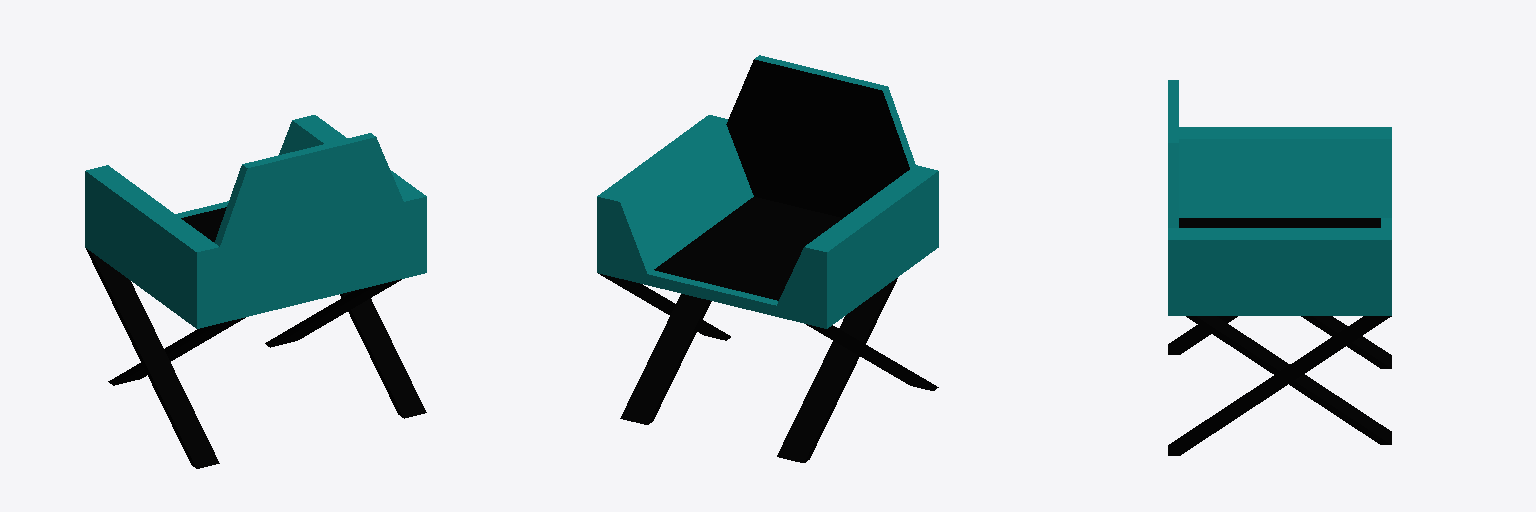
File: campchair.obj
3 views of the same model, side by side, from view 1: azimuth 30°, elevation 25°; view 2: azimuth 150°, elevation 25°; view 3: azimuth 270°, elevation 25° (orthographic).
Visible parts, largest first — view 1: Camp_Chair; view 2: Camp_Chair; view 3: Camp_Chair.
Part boxes in pixels (bbox=[...]): Camp_Chair: bbox=[85, 115, 426, 468]; Camp_Chair: bbox=[597, 55, 938, 462]; Camp_Chair: bbox=[1168, 80, 1391, 455].
Size of the model in its own units: 1.42 by 1.7 by 1.2.